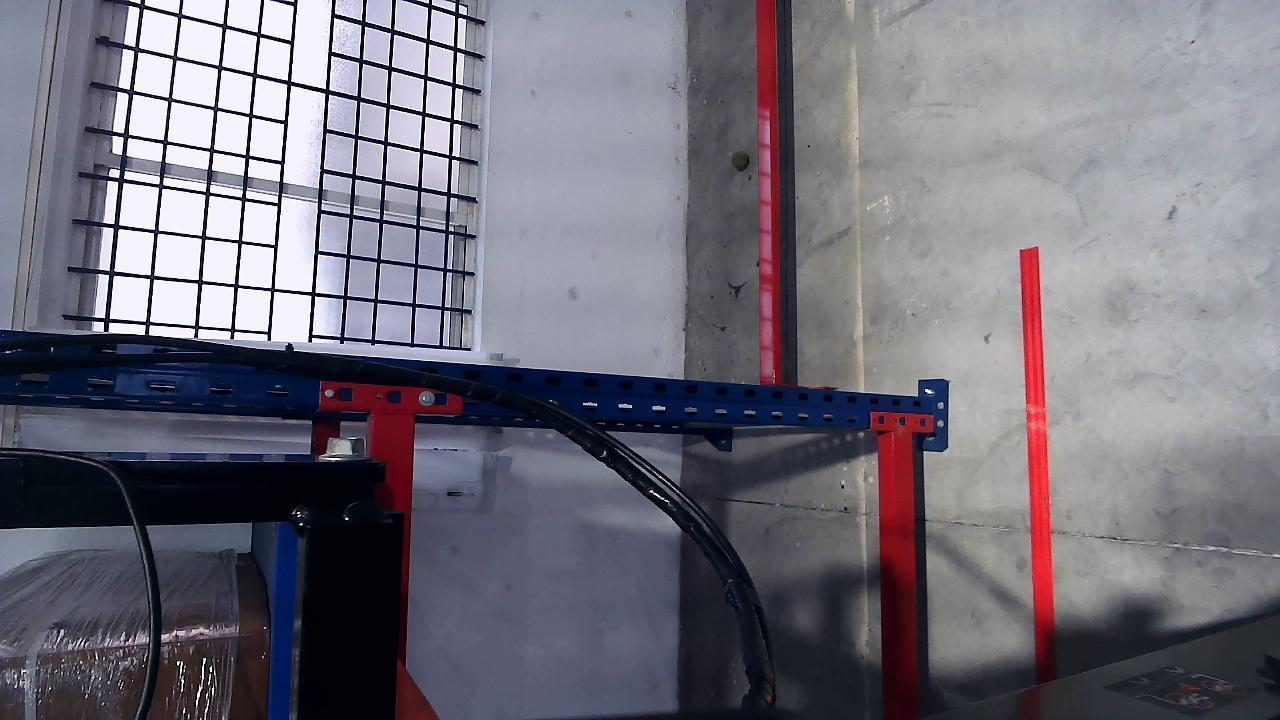red_line: (1020, 245, 1058, 678)
